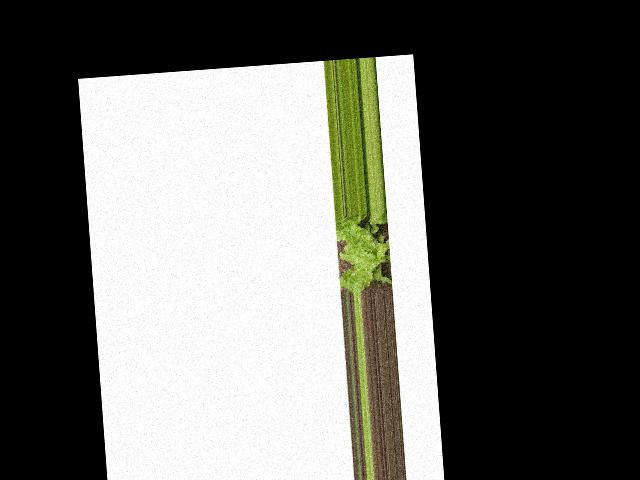lettuce: (337, 212, 396, 293)
